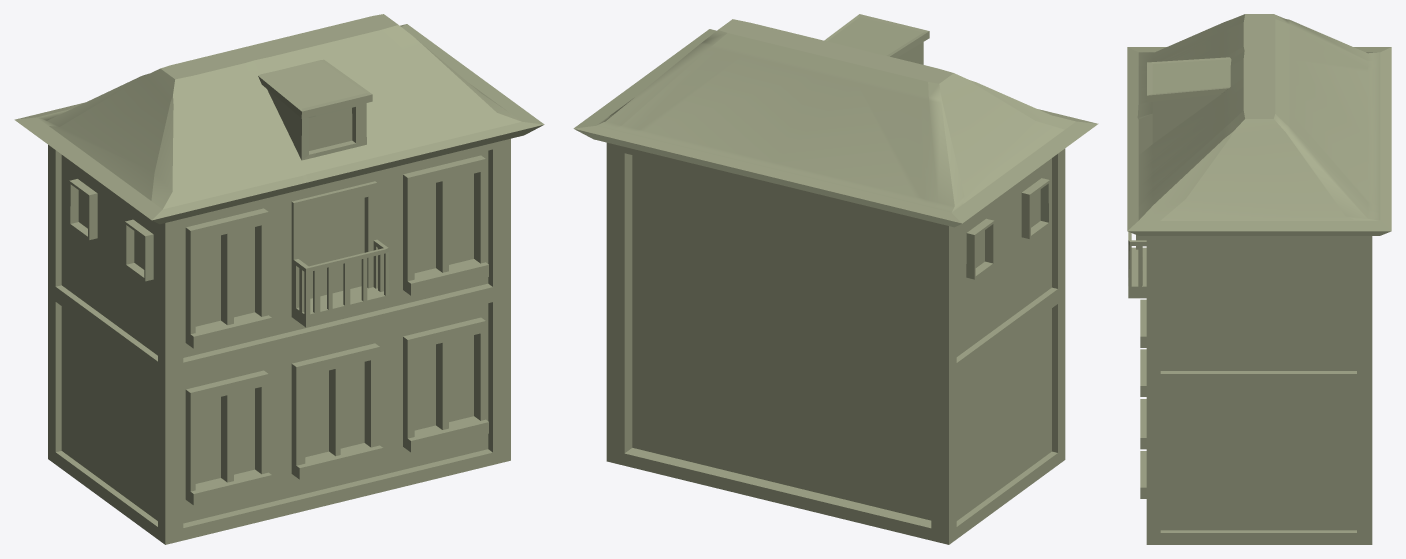
Rendered from house 1 V4.fbx.
3 renders of one model, left to right at view 1: azimuth 30°, elevation 25°; view 2: azimuth 150°, elevation 25°; view 3: azimuth 270°, elevation 25°, orthographic. The views are drawn at different scales.
Visible parts, largest first — view 1: house1; view 2: house1; view 3: house1.
Part boxes in pixels (bbox=[...]): house1: bbox=[14, 14, 544, 544]; house1: bbox=[573, 14, 1098, 544]; house1: bbox=[1127, 14, 1391, 544].
Size of the model in its own units: 4.64 by 4.66 by 2.81.
